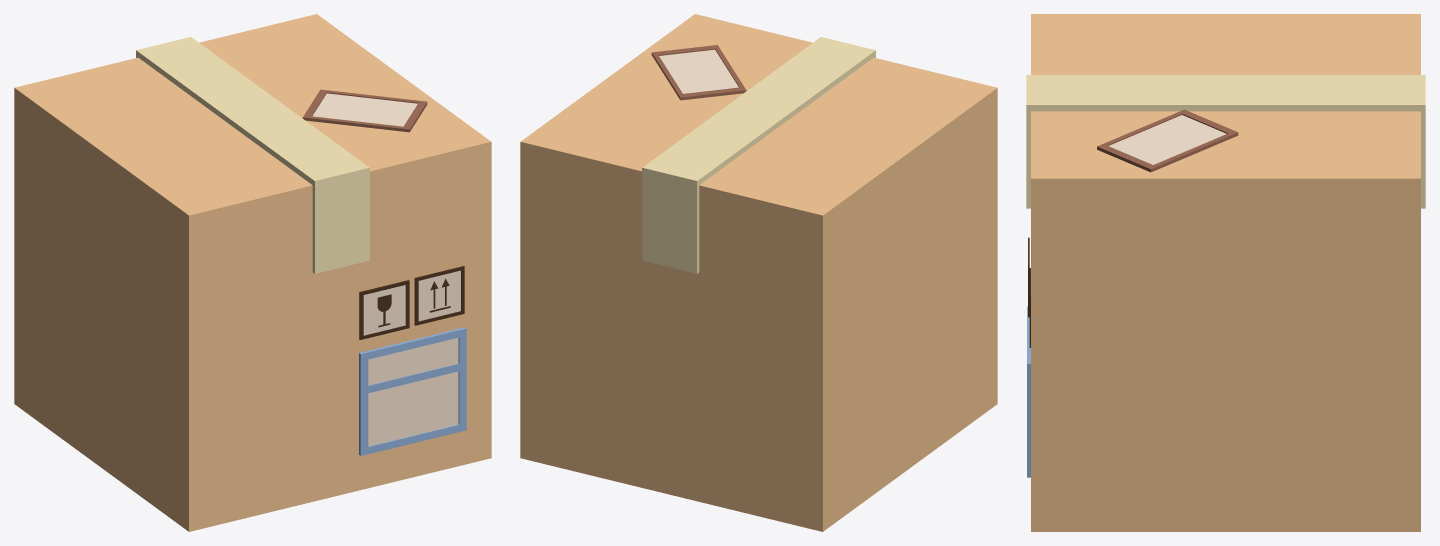
3 views of the same model, side by side, from view 1: azimuth 30°, elevation 25°; view 2: azimuth 150°, elevation 25°; view 3: azimuth 270°, elevation 25° (orthographic). The views are drawn at different scales.
Parts seen in each view (by area): view 1: Box6; view 2: Box6; view 3: Box6.
Part boxes in pixels (x1=…): Box6: x1=14, y1=14, x2=491, y2=531; Box6: x1=520, y1=14, x2=997, y2=531; Box6: x1=1026, y1=14, x2=1425, y2=531.
Size of the model in its own units: 54.38 by 55.38 by 55.68.
